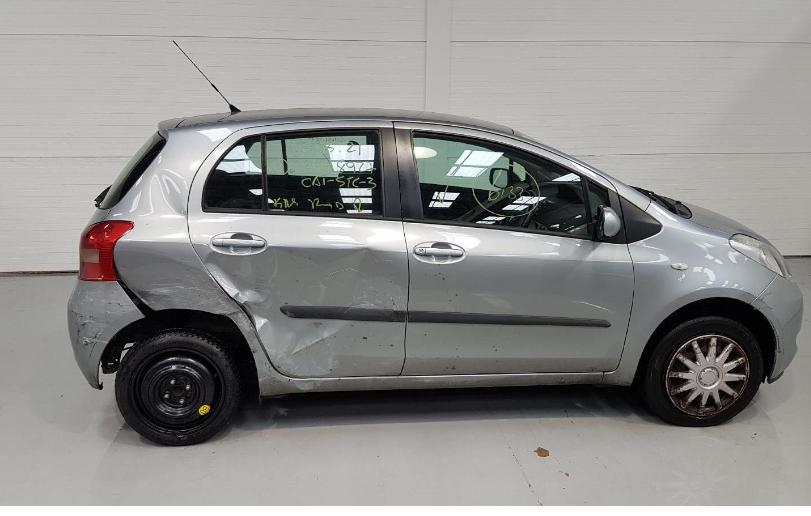Back-bumper: (67, 279, 144, 390)
Back-door: (187, 120, 409, 377)
Back-wheel: (116, 327, 243, 446)
Back-window: (266, 129, 383, 215), (205, 137, 262, 206)
Back-windshield: (99, 132, 166, 209)
Fender: (600, 201, 778, 386)
Front-bumper: (749, 274, 803, 381)
Front-door: (394, 121, 635, 376)
Front-wheel: (634, 309, 764, 427)
Front-window: (412, 132, 610, 237)
Headlight: (729, 233, 799, 287)
Hood: (673, 200, 780, 251)
Mirror: (597, 205, 620, 240)
Quarter-panel: (103, 209, 242, 315)
Rocker-panel: (227, 311, 603, 395)
Roof: (159, 108, 514, 135)
Tail-light: (78, 221, 134, 282)
Trunk: (83, 208, 110, 229)
Windshield: (512, 129, 601, 172), (622, 182, 692, 219)
